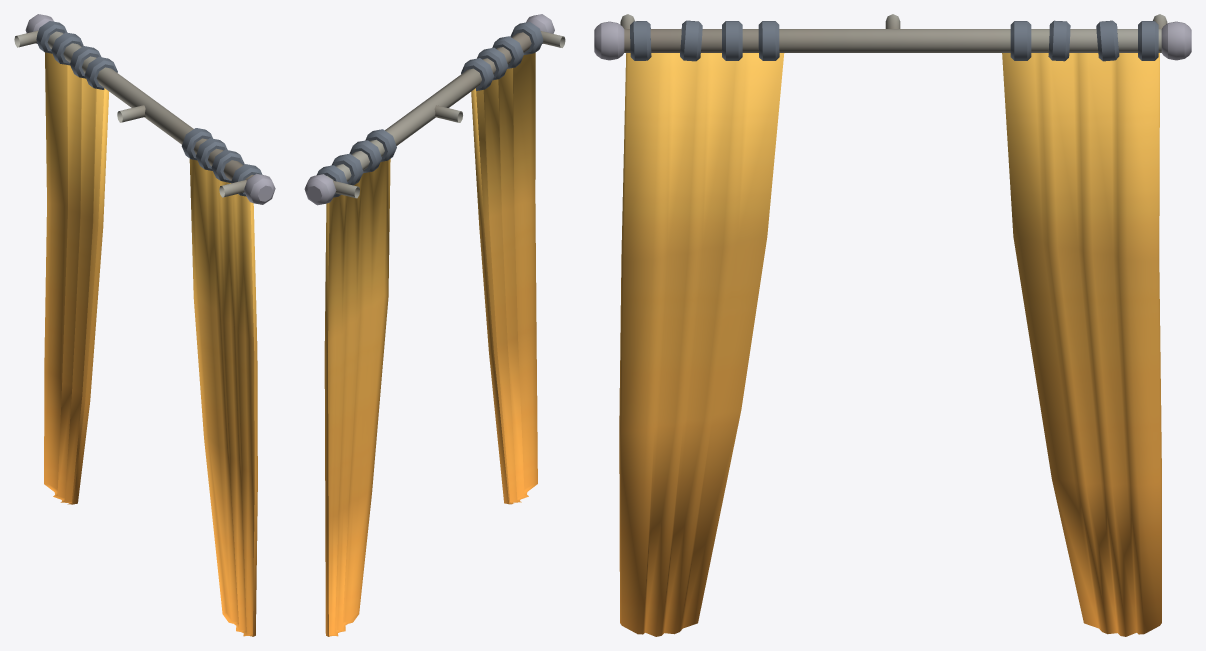
Rendered from Curtains_Long_1_B_J.glb.
The picture shows the model from 3 angles, left to right: view 1: azimuth 30°, elevation 25°; view 2: azimuth 150°, elevation 25°; view 3: azimuth 270°, elevation 25°; orthographic projection. The views are drawn at different scales.
Visible parts, largest first — view 1: Curtains_Long_1_B_J; view 2: Curtains_Long_1_B_J; view 3: Curtains_Long_1_B_J.
Boxes of the visible parts, x1=… form: Curtains_Long_1_B_J: x1=14, y1=14, x2=275, y2=636; Curtains_Long_1_B_J: x1=304, y1=14, x2=565, y2=636; Curtains_Long_1_B_J: x1=594, y1=14, x2=1191, y2=636.
Size of the model in its own units: 0.2268 by 2.28 by 2.02.
2 materials, 2 textured.
